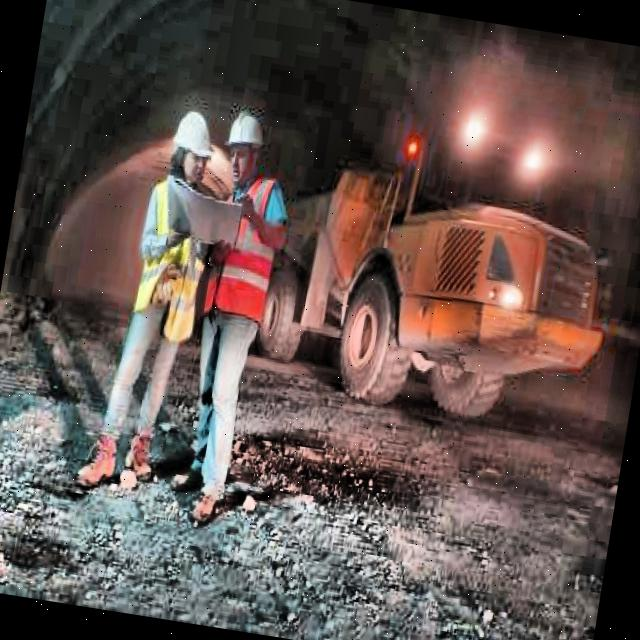helmet: (165, 103, 219, 194), (216, 104, 272, 190)
